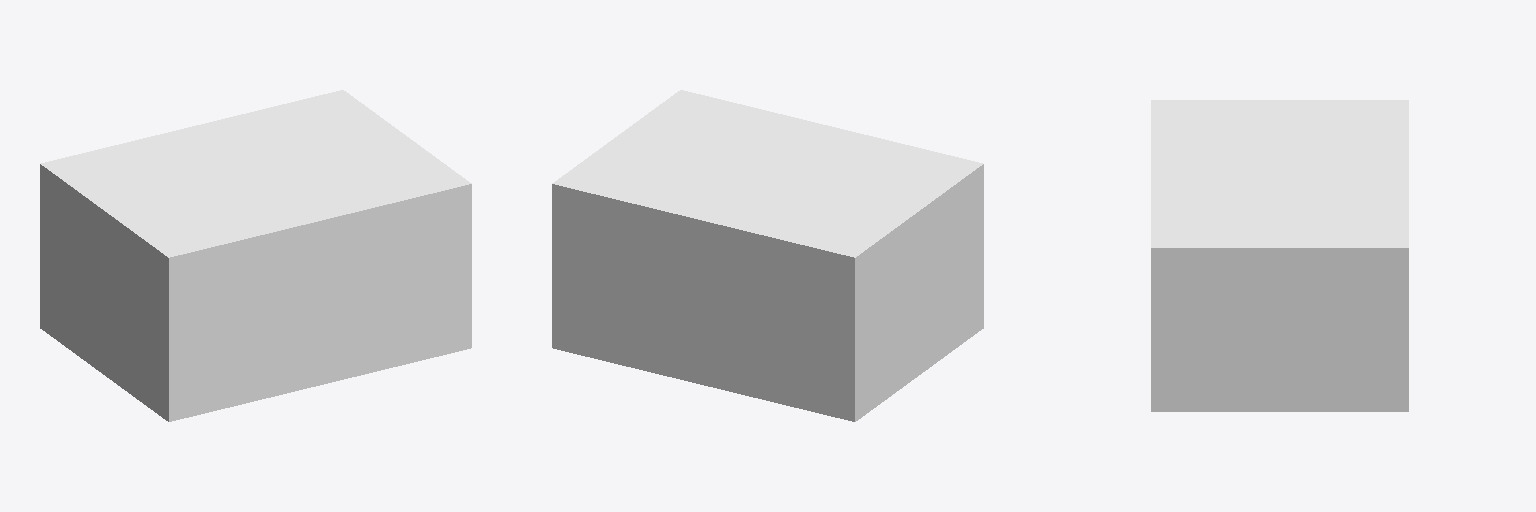
Rendered from shortBuilding.obj.
3 renders of one model, left to right at view 1: azimuth 30°, elevation 25°; view 2: azimuth 150°, elevation 25°; view 3: azimuth 270°, elevation 25°, orthographic.
Visible parts, largest first — view 1: shortBuilding; view 2: shortBuilding; view 3: shortBuilding.
Boxes of the visible parts, x1,y1,x2,y2 form: shortBuilding: [40, 90, 471, 421]; shortBuilding: [552, 90, 983, 421]; shortBuilding: [1151, 100, 1408, 411].
Bounding box in the file's own units: 83 × 43 × 61.